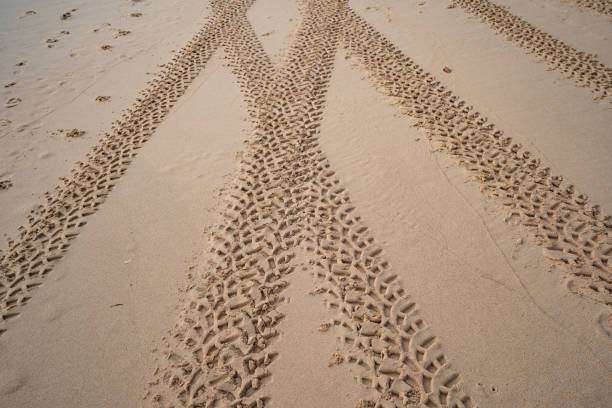vehicle_track: (149, 0, 474, 406), (342, 11, 611, 305), (0, 8, 232, 334), (451, 0, 611, 98)
